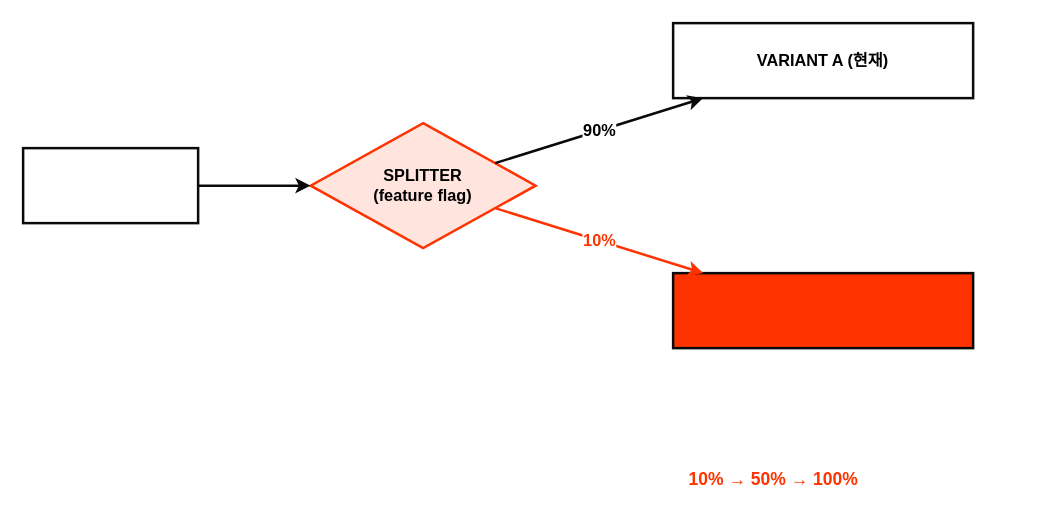
This 1044x519 diagram has some shape labels left out. The shapes that lost their labels are listed below. From the top down, each one's centre as x and y in pixels, then its label:
pixel 110 185: REQUEST
pixel 822 310: VARIANT B (실험)
